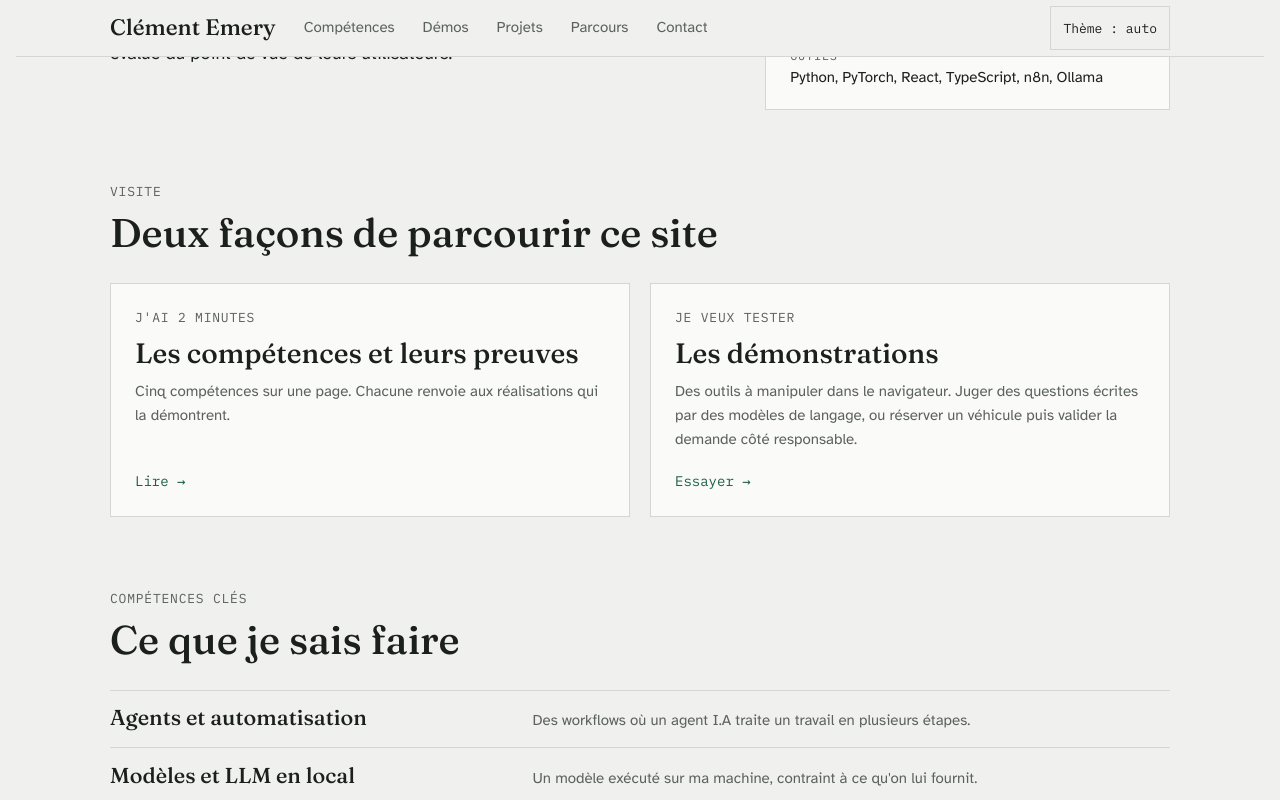
Test: accueil › mène à la page des compétences
(page scrolled)
Click the link "J'ai 2 minutes" at (370, 400), box [110,283,630,517]
(page scrolled)
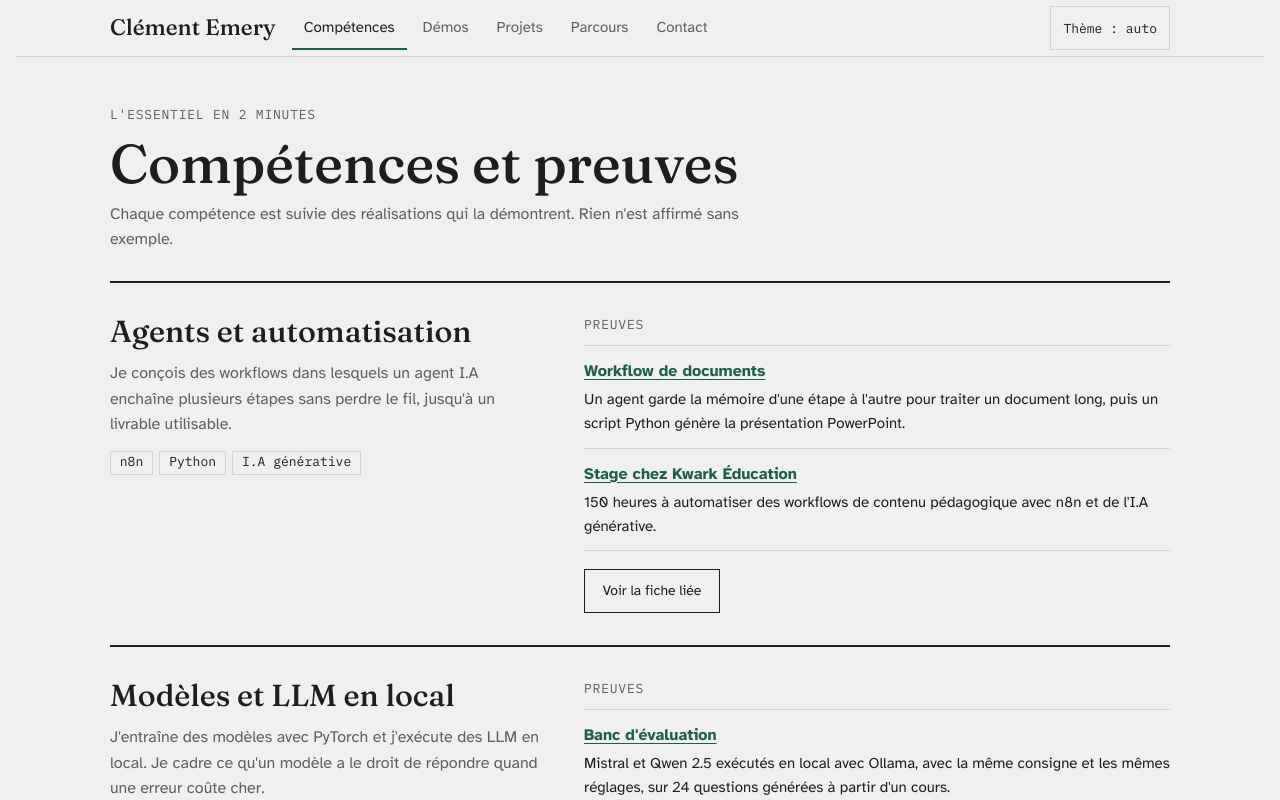
Expected: the heading "Compétences et preuves" is shown, [110,134,753,194]
